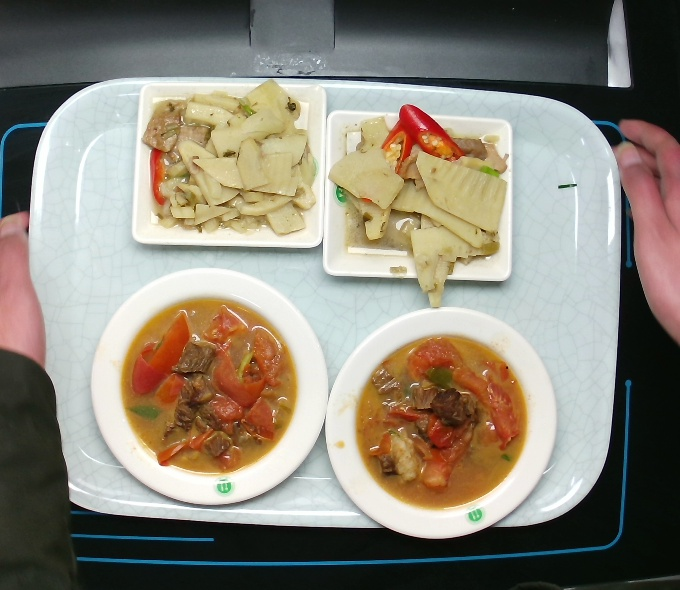wcq-DongSun: (317, 107, 516, 307), (136, 84, 324, 257)
wcq-FanQiwNiuRou: (117, 290, 299, 487), (356, 329, 533, 513)
